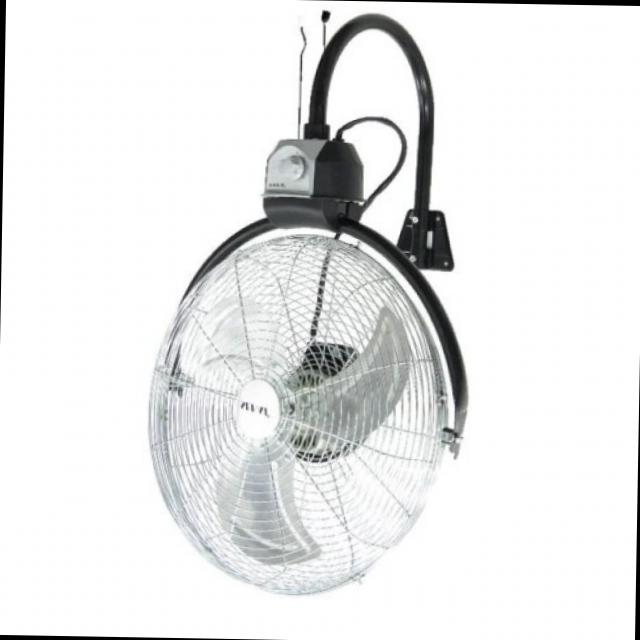fan: (136, 4, 494, 610)
